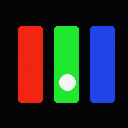2 circle: (59, 74, 75, 90)
